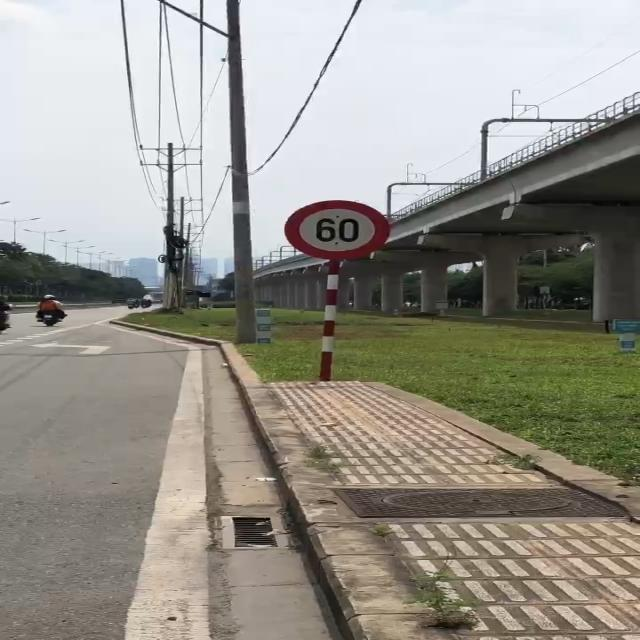Bien bao toc do toi da cho phep: (282, 198, 403, 268)
